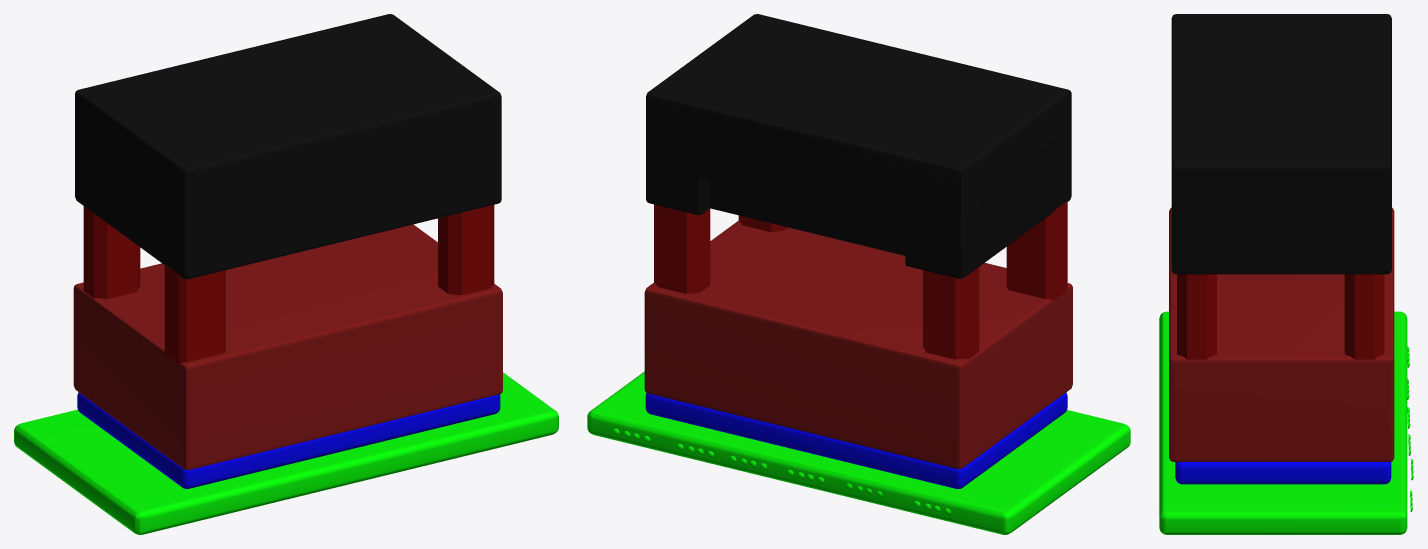
Rendered from pressmesh.fbx.
The picture shows the model from 3 angles, left to right: view 1: azimuth 30°, elevation 25°; view 2: azimuth 150°, elevation 25°; view 3: azimuth 270°, elevation 25°; orthographic projection.
Parts seen in each view (by area): view 1: top1_low, middle2_low, boltsandbottom_low, pillars_low, middle1_low; view 2: top1_low, middle2_low, boltsandbottom_low, pillars_low, middle1_low; view 3: top1_low, middle2_low, boltsandbottom_low, pillars_low, middle1_low.
Part boxes in pixels (<box>): top1_low: <box>75,14,501,279</box>; middle2_low: <box>73,224,502,469</box>; boltsandbottom_low: <box>14,372,558,534</box>; pillars_low: <box>83,205,494,364</box>; middle1_low: <box>77,392,500,488</box>; top1_low: <box>646,14,1071,278</box>; middle2_low: <box>644,220,1072,468</box>; boltsandbottom_low: <box>587,371,1130,534</box>; pillars_low: <box>654,201,1067,359</box>; middle1_low: <box>645,392,1067,488</box>; top1_low: <box>1171,14,1391,274</box>; middle2_low: <box>1169,207,1394,461</box>; boltsandbottom_low: <box>1159,311,1413,534</box>; pillars_low: <box>1177,274,1384,359</box>; middle1_low: <box>1175,462,1391,484</box>.
Bounding box in the file's own units: 15.09 × 11.88 × 7.91.
